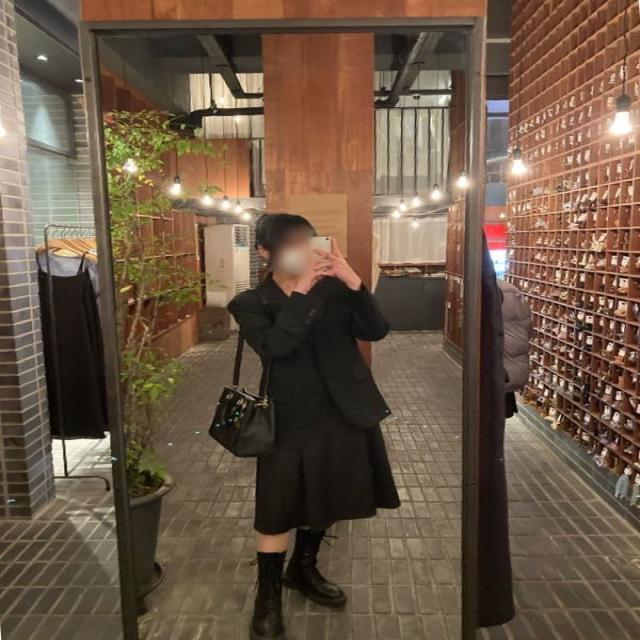blazer: (228, 270, 392, 432)
skirt: (253, 370, 405, 536)
